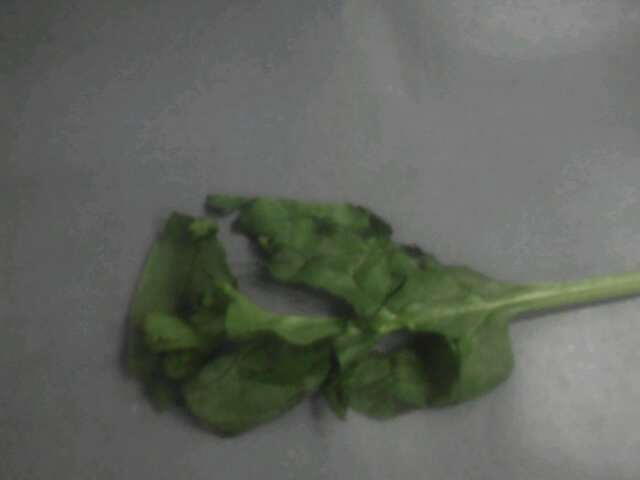yellow: (83, 152, 573, 447)
